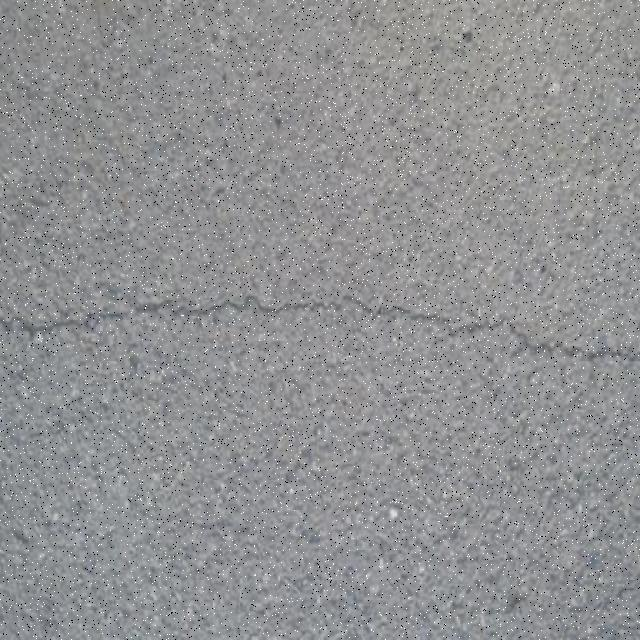moderate crack: (10, 284, 638, 357), (364, 298, 492, 328), (8, 307, 126, 339)
severe crack: (505, 331, 632, 361)
